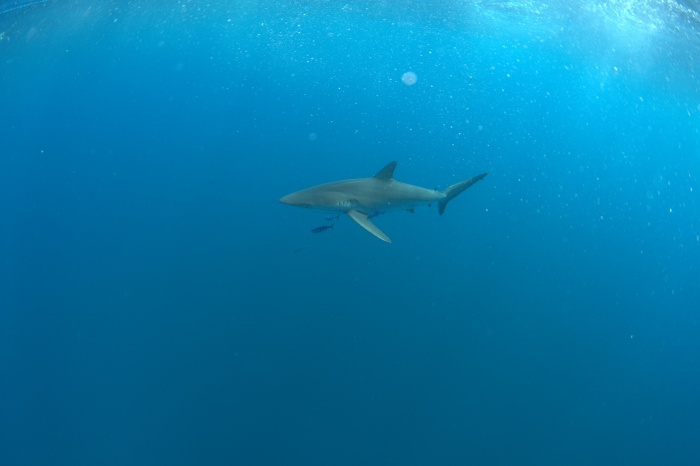Sedoso: (265, 153, 498, 249)
